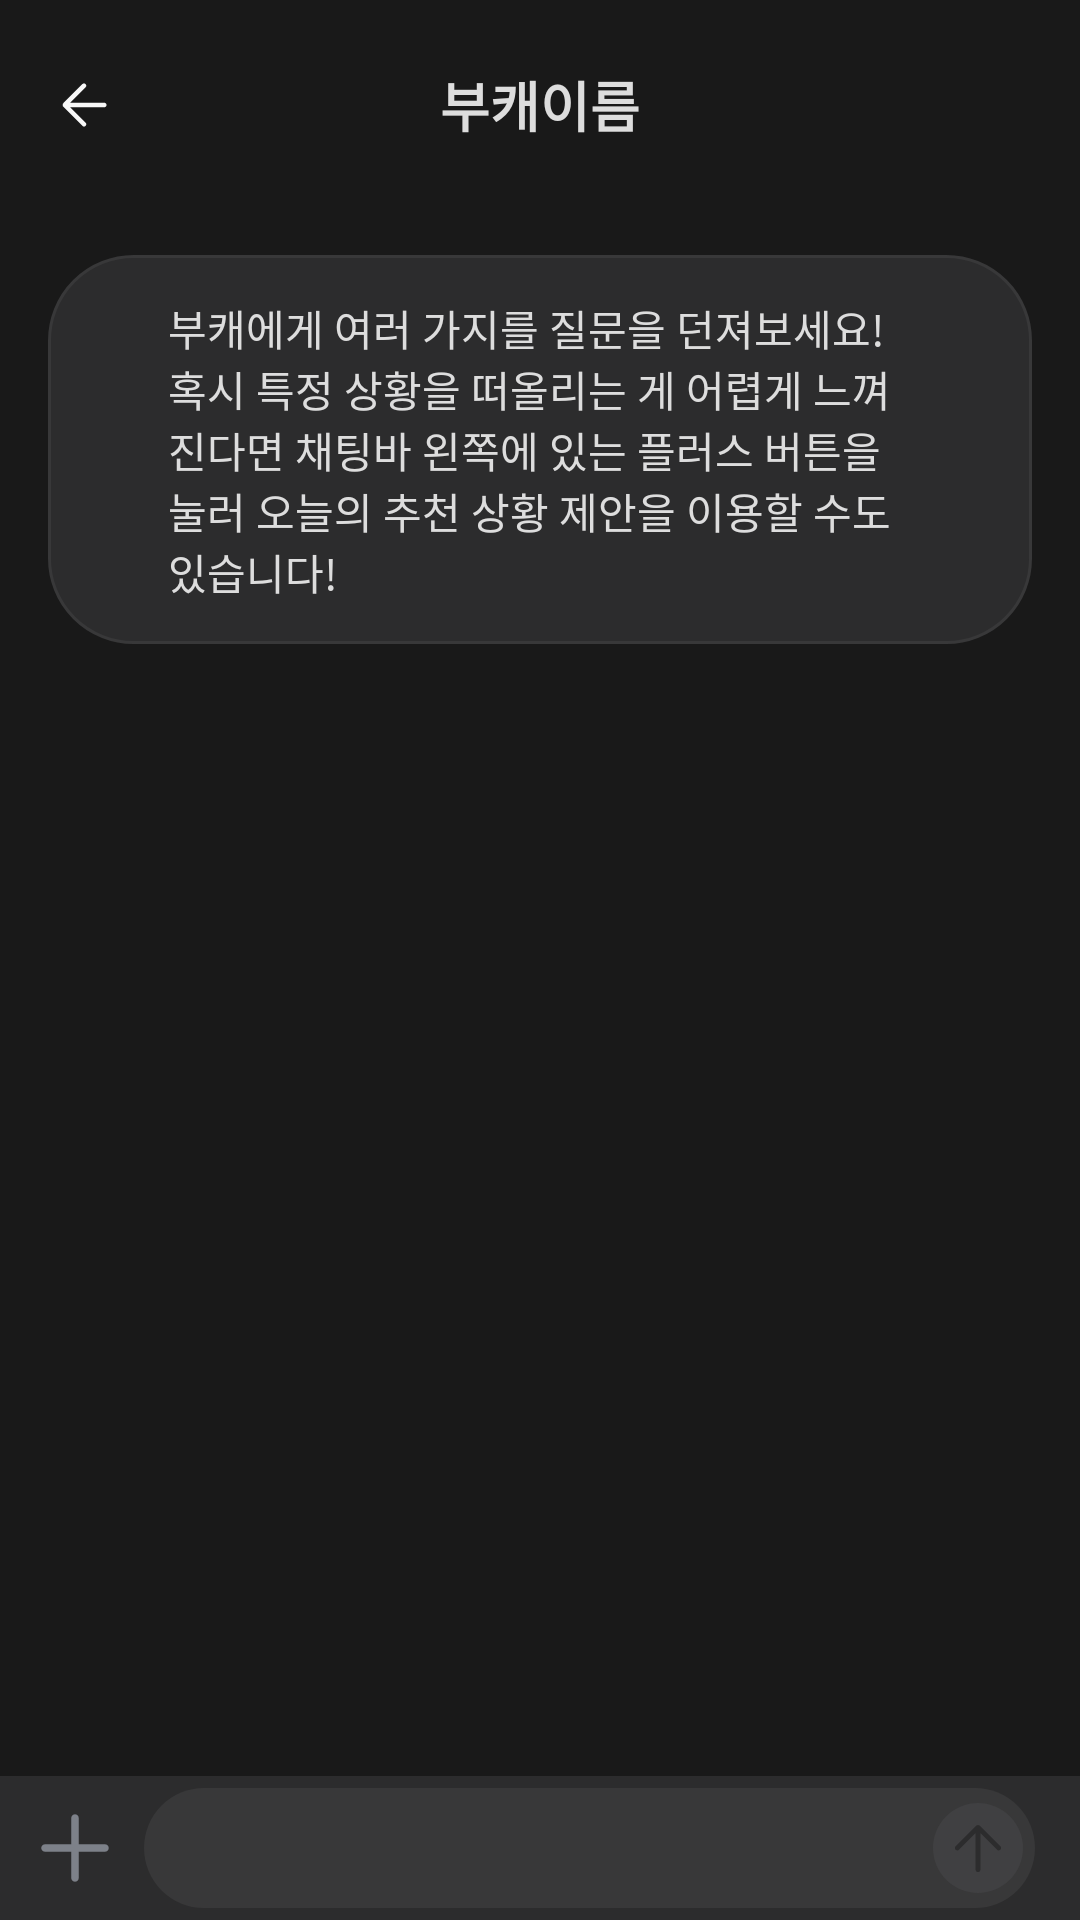

Screen size 1080 × 1920. Icon name, then its box in pixels as (x1, y1, x2, y2):
arrow back: (62, 83, 107, 127)
pluscancel: (41, 1814, 109, 1882)
